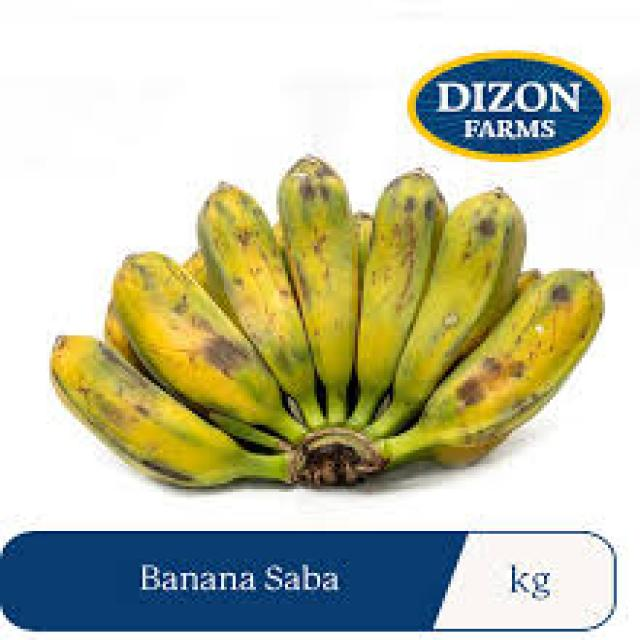banana: (47, 151, 605, 489)
